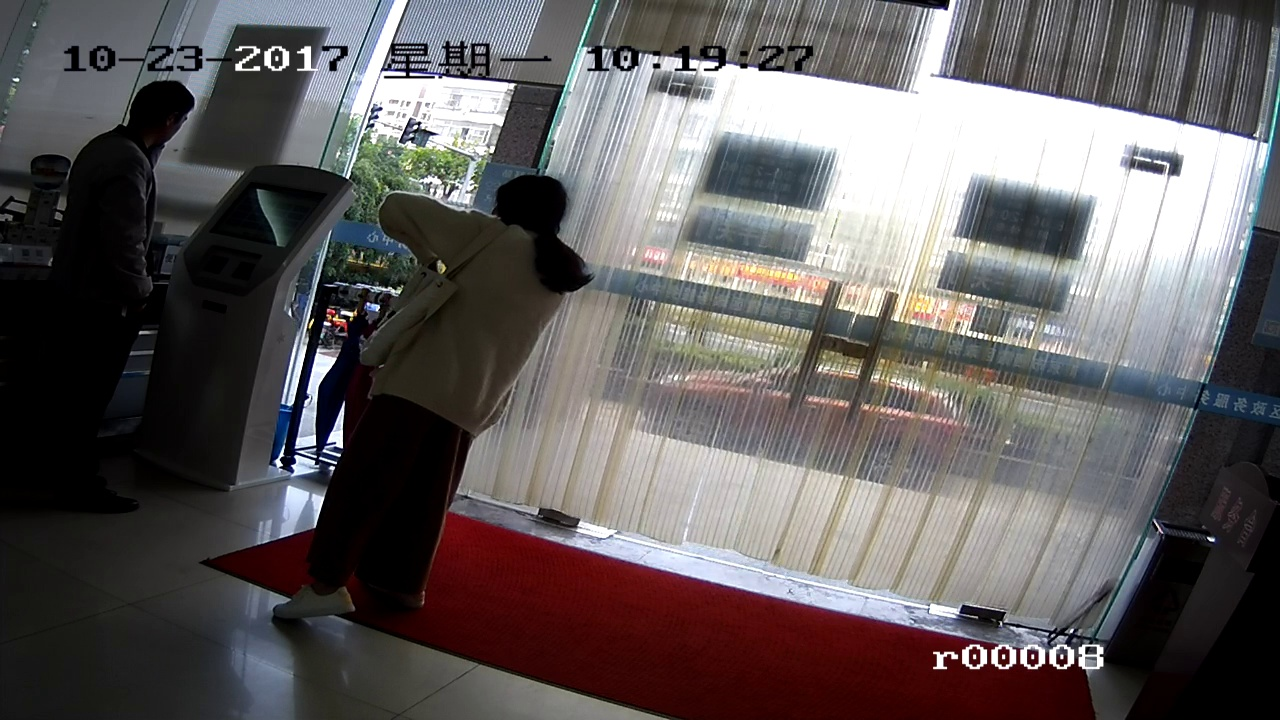monitor: (205, 170, 320, 255)
person: (299, 168, 570, 621), (36, 70, 185, 535)
